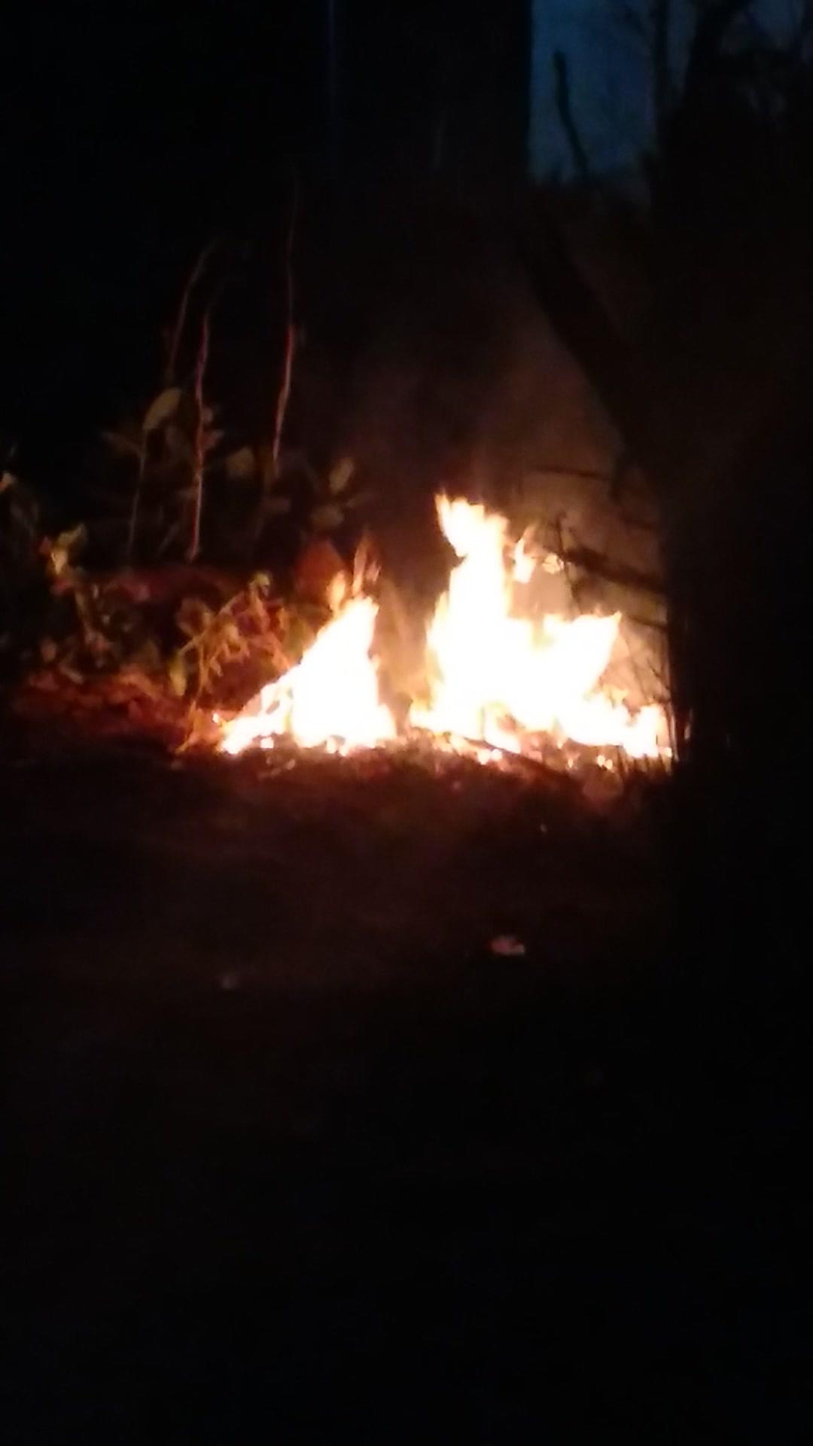fire: (406, 494, 672, 760), (220, 554, 401, 754)
